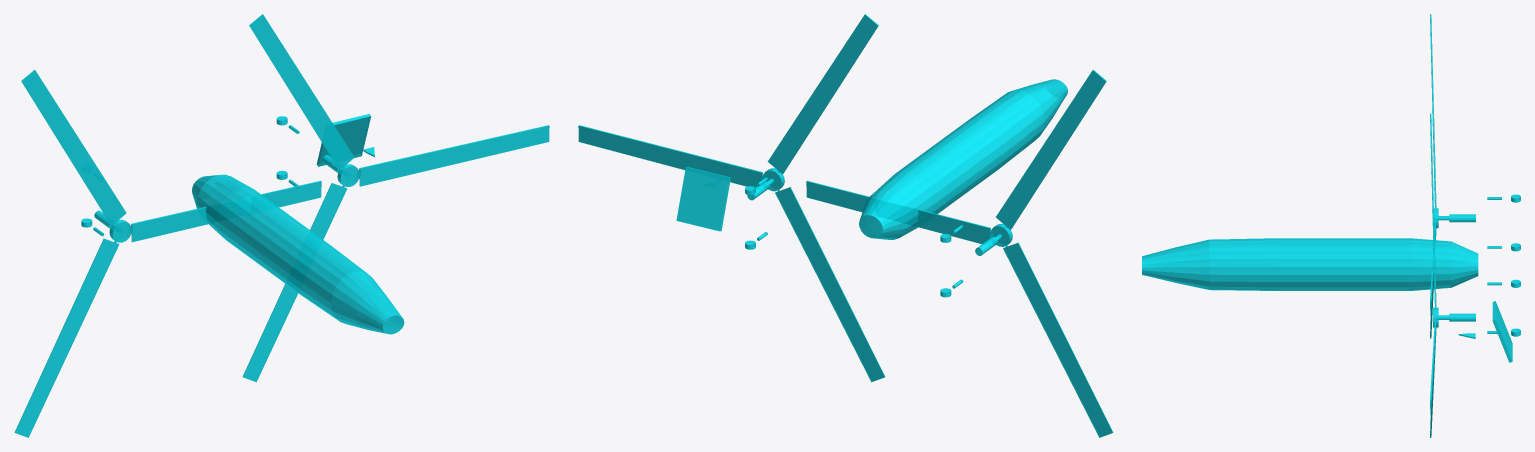
File: ch47_hologram.glb
The picture shows the model from 3 angles, left to right: view 1: azimuth 30°, elevation 25°; view 2: azimuth 150°, elevation 25°; view 3: azimuth 270°, elevation 25°; orthographic projection. The views are drawn at different scales.
Visible parts, largest first — view 1: Helicopter; view 2: Helicopter; view 3: Helicopter.
Boxes of the visible parts, x1=… form: Helicopter: x1=14, y1=14, x2=549, y2=437; Helicopter: x1=578, y1=14, x2=1113, y2=437; Helicopter: x1=1142, y1=14, x2=1520, y2=437.
Bounding box in the file's own units: 24.62 × 16.12 × 16.9.
